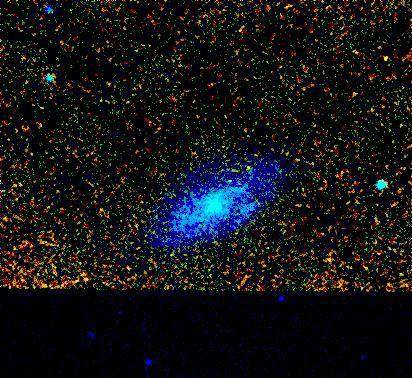star: (234, 154, 264, 184)
